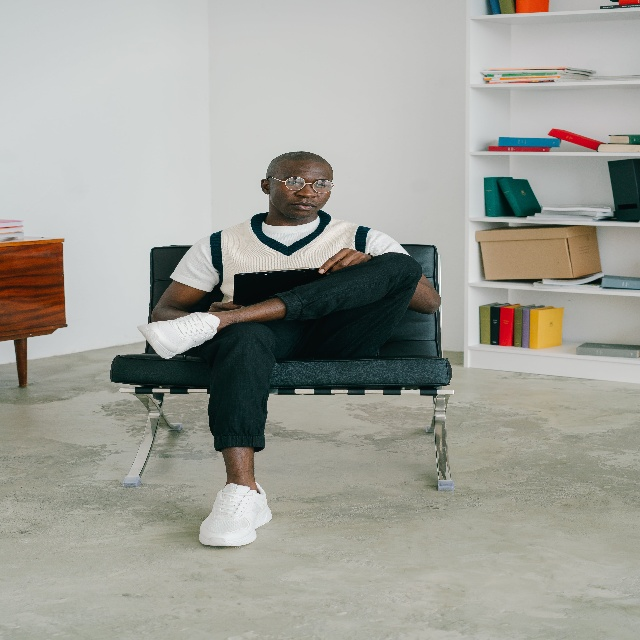Gafas: (266, 176, 335, 191)
Sin_guantes: (318, 247, 371, 275), (208, 301, 245, 312)
